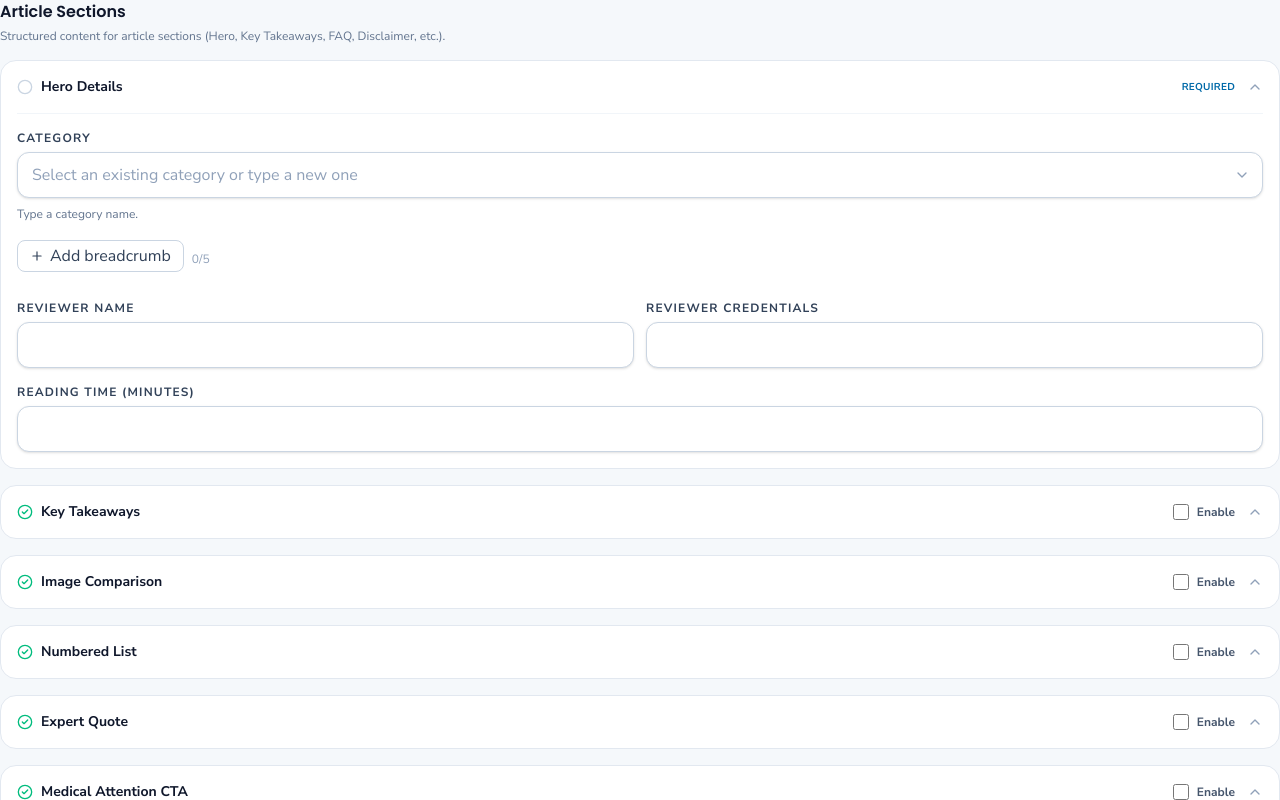
Test: Article Sections editor › keeps reading time numeric while typing
The image size is (1280, 800).
Type "abc12e3" into the field labelled "Reading time (minutes)" at (640, 429), box [18, 407, 1262, 451]
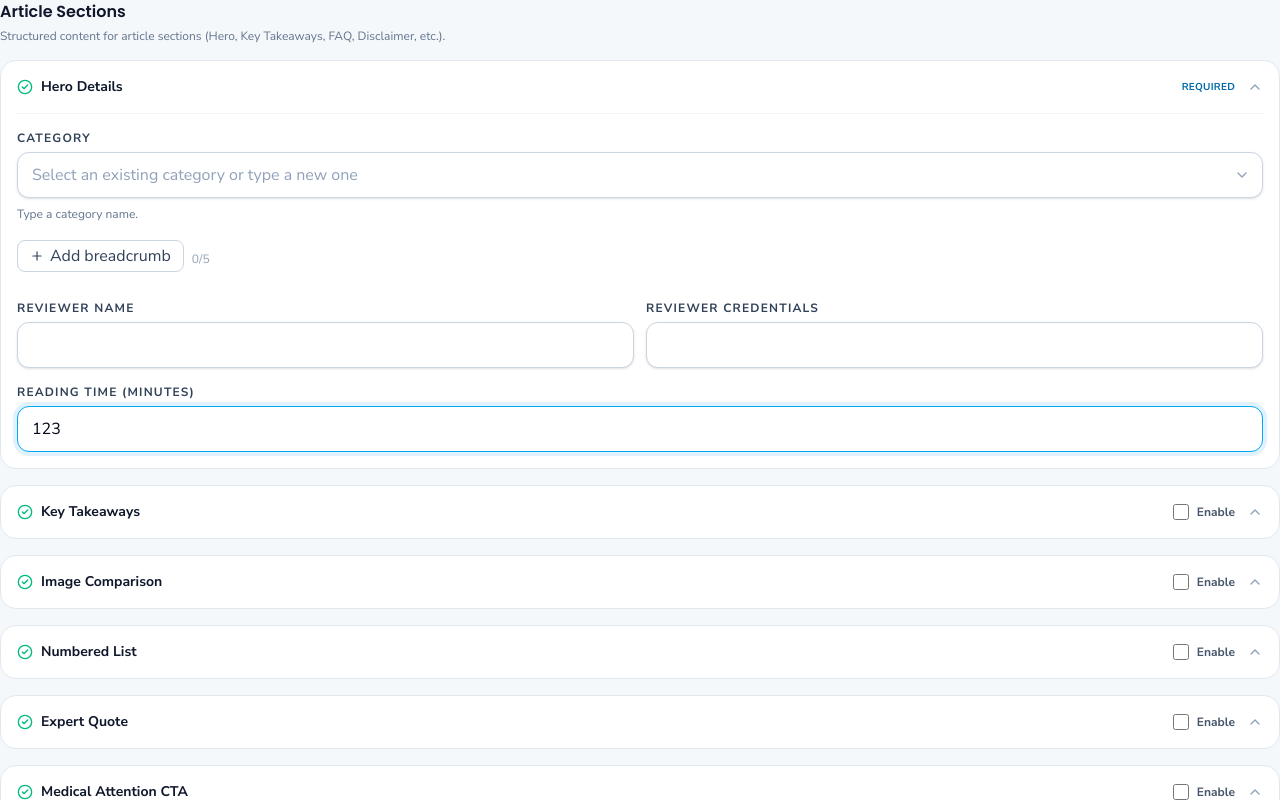
Expected: the field labelled "Reading time (minutes)" holds "123"
Clear the field labelled "Reading time (minutes)" at (640, 429), box [18, 407, 1262, 451]
(page scrolled)
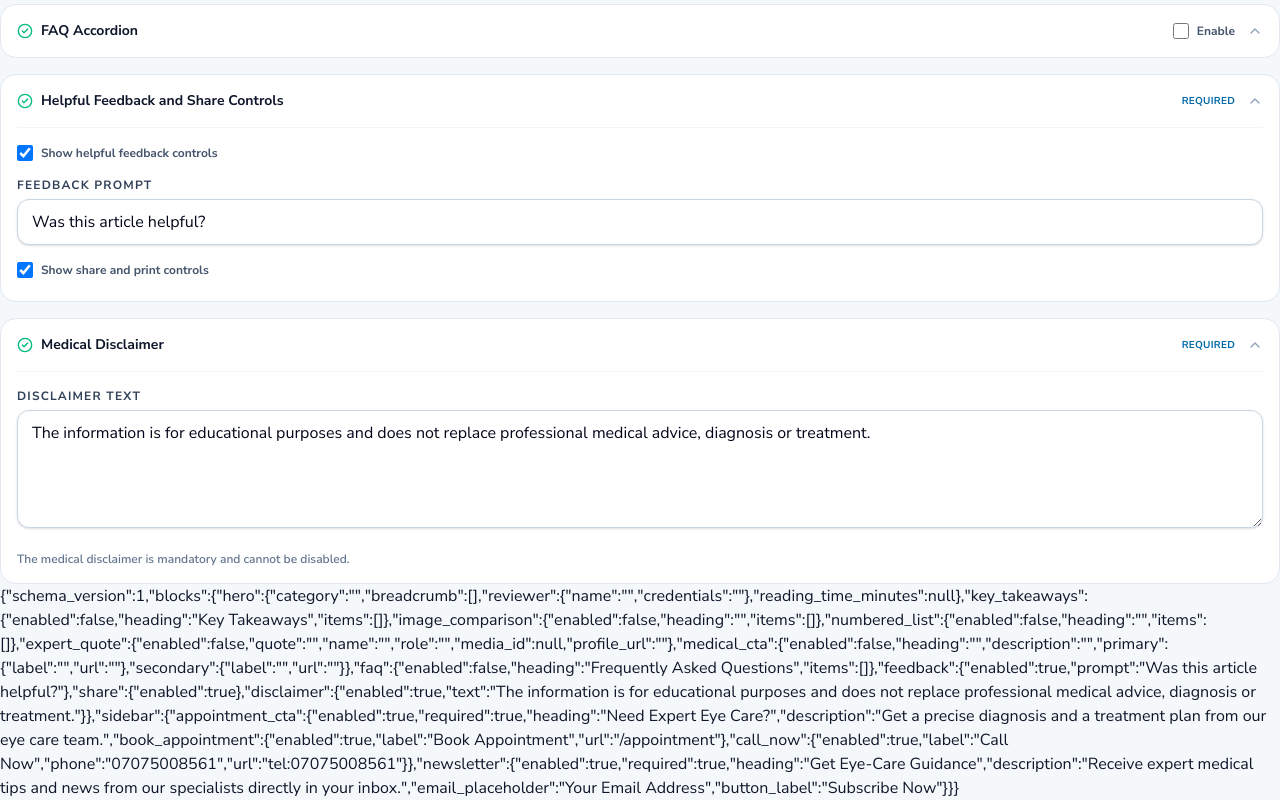
Expected: the text "\"reading_time_minutes\":null" is shown, [0, 585, 1266, 799]
